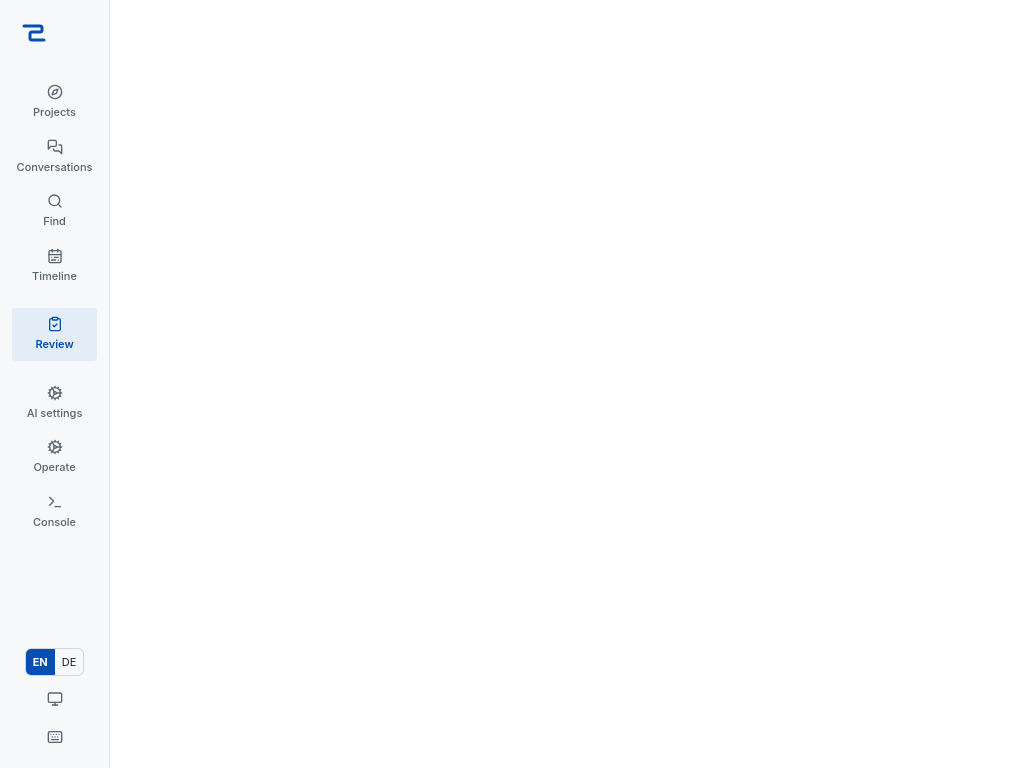
Shell › hides AI team operations and its go chord when the surface is fenced off
This screenshot has width=1024, height=768.
expect the link "Projects" is shown: met, box top-left (33, 84), bottom-right (76, 119)
expect the link "Conversations" is shown: met, box top-left (12, 130), bottom-right (97, 183)
Step 1. Click the button named "keyboard shortcuts" → {"x": 54, "y": 737}, box top-left (40, 722), bottom-right (70, 752)
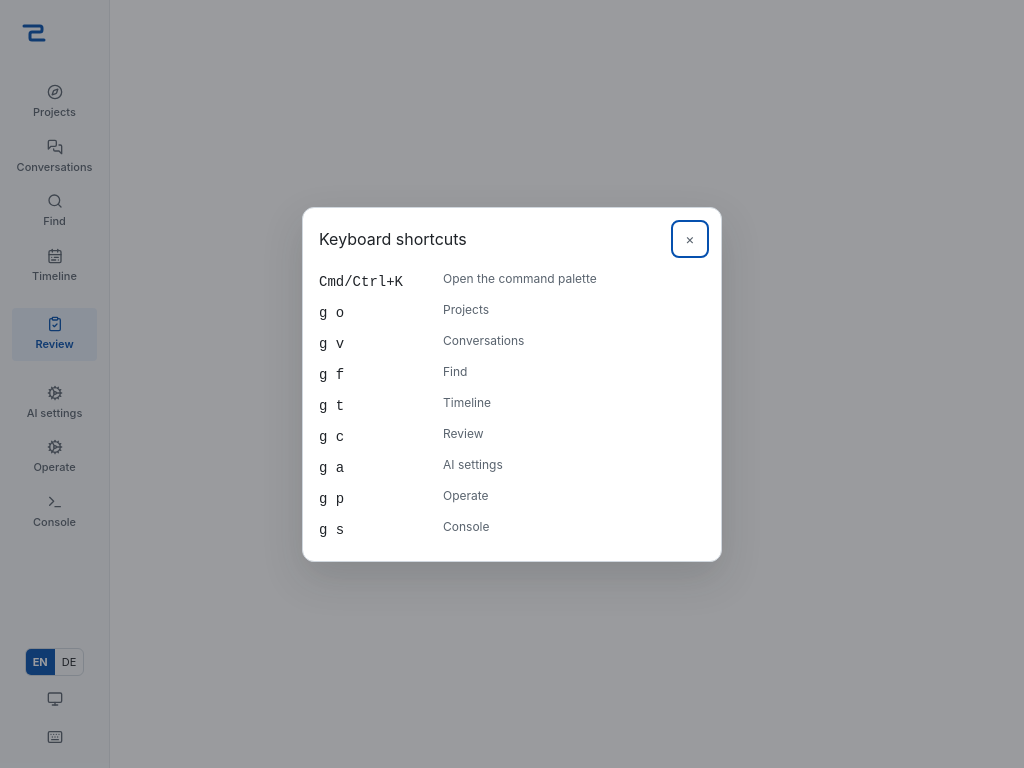
expect the text "g f" is shown: met, box top-left (319, 366), bottom-right (344, 382)
